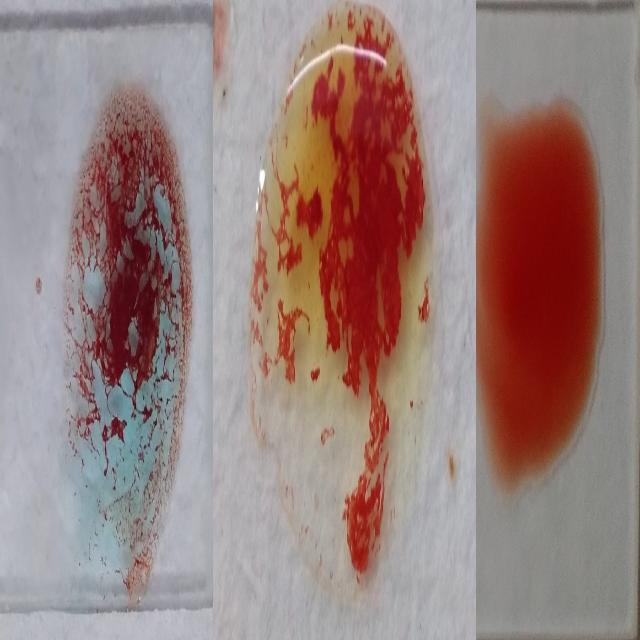A: (57, 86, 192, 591)
B: (251, 7, 437, 588)
